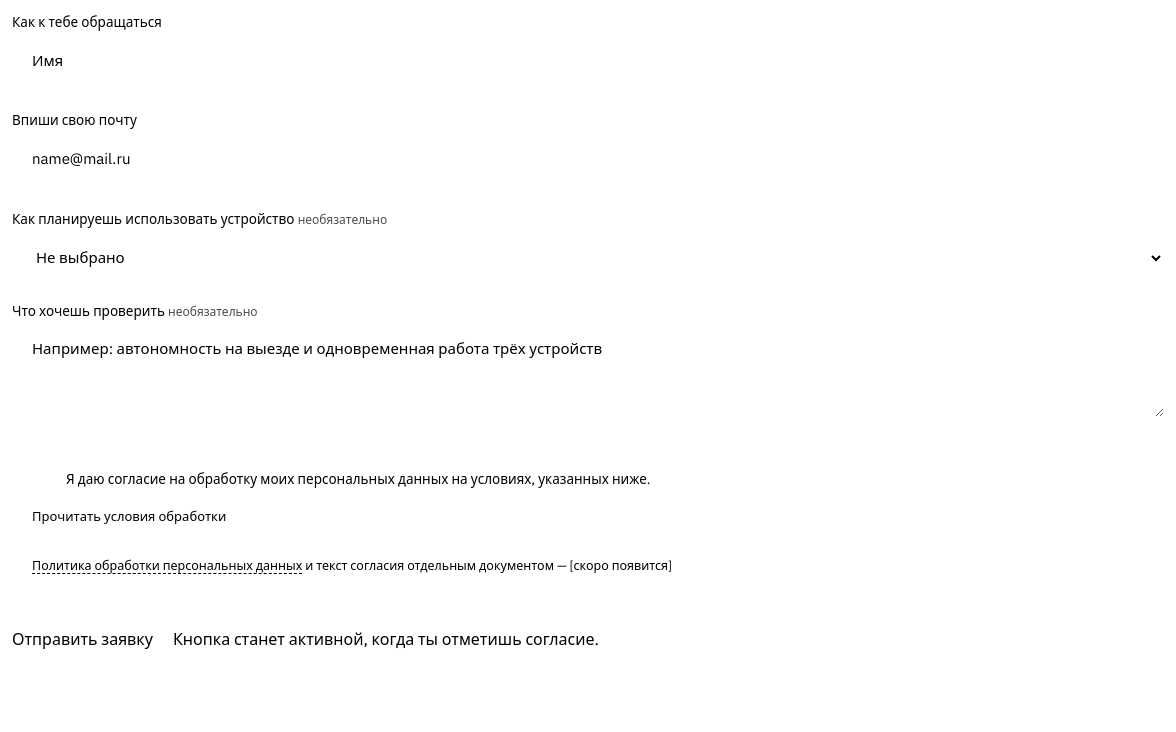
Test: RequestForm › кнопка отправки выключена, пока нет согласия
expect the button with id "formSubmit" is disabled: met, box left=12, top=627, right=153, bottom=651
Click the checkbox with id "fConsent": (343, 478) left=36, top=470, right=650, bottom=488
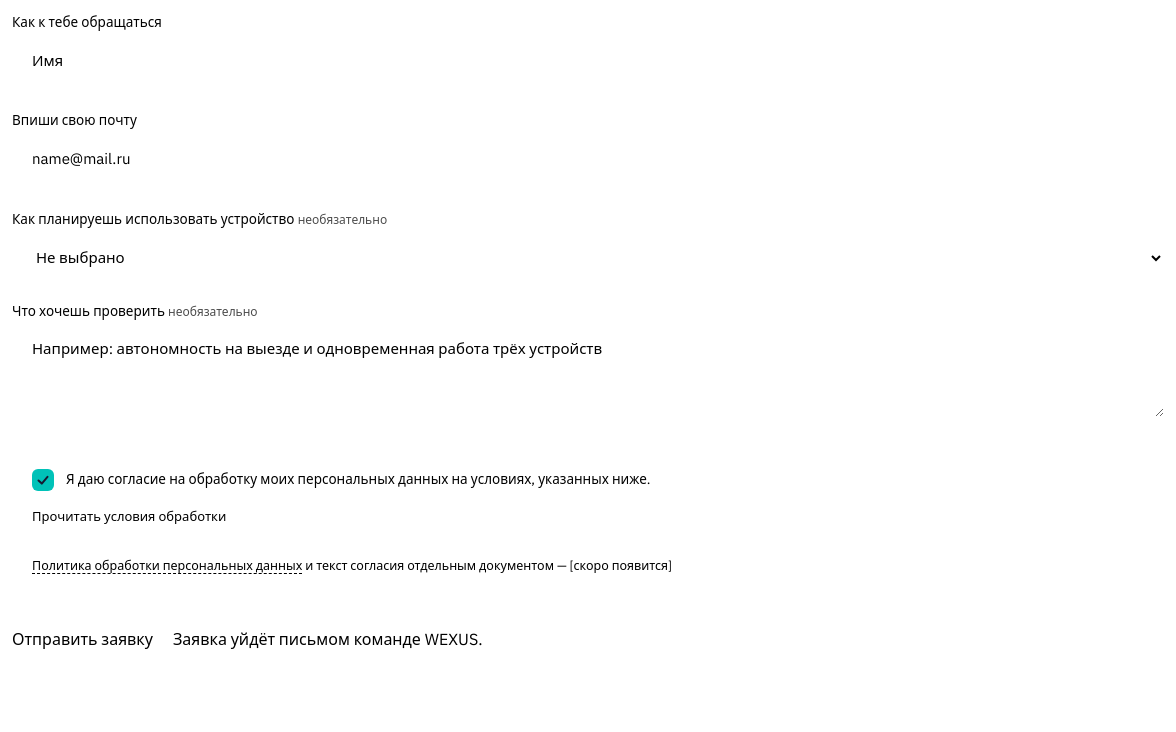
expect the button with id "formSubmit" is enabled: met, box left=12, top=627, right=153, bottom=651
expect the text with id "formHint" reads "Заявка уйдёт письмом команде WEXUS.": met, box left=173, top=629, right=482, bottom=649
